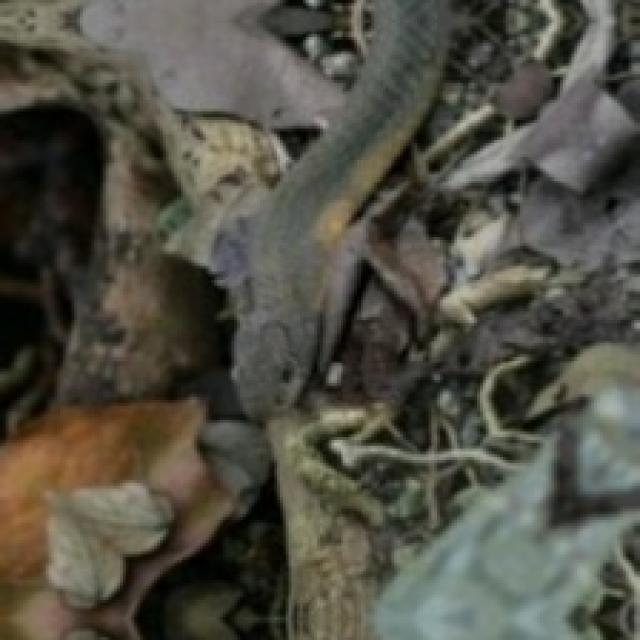king cobra: (234, 0, 449, 414), (443, 0, 637, 191), (520, 197, 557, 257)
